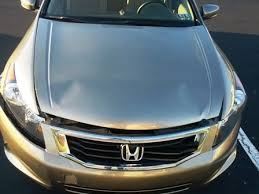Dent: (42, 77, 81, 111), (175, 79, 210, 116)
